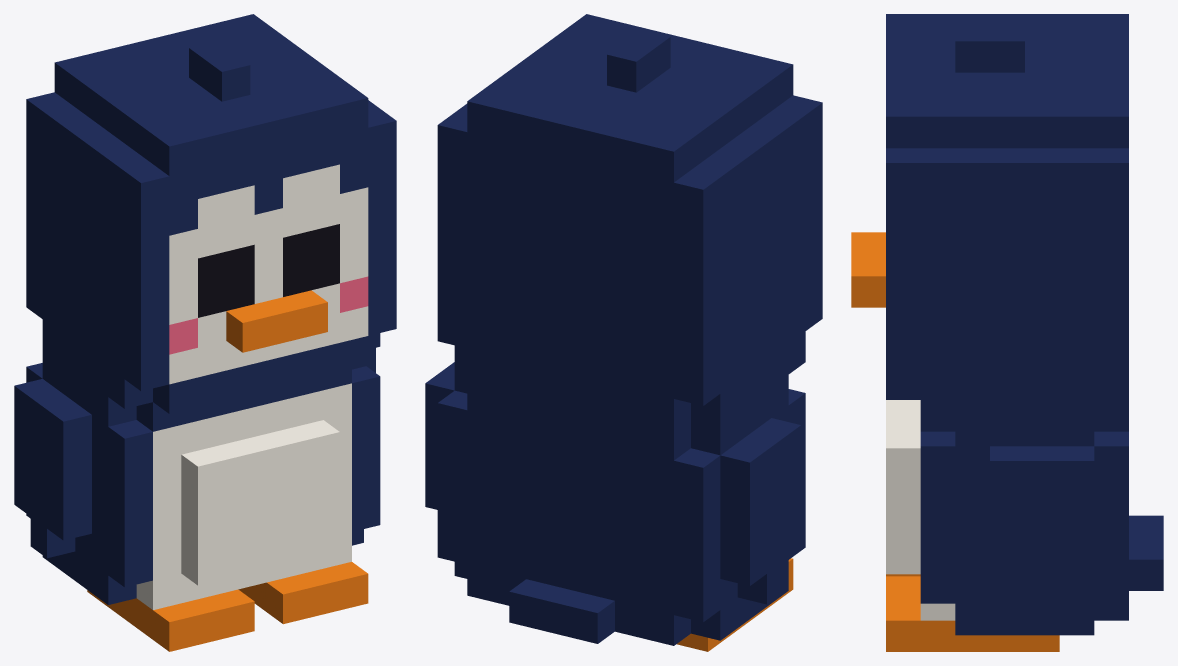
The model's file is Penguin.obj.
3 views of the same model, side by side, from view 1: azimuth 30°, elevation 25°; view 2: azimuth 150°, elevation 25°; view 3: azimuth 270°, elevation 25° (orthographic). The views are drawn at different scales.
Visible parts, largest first — view 1: Penguin; view 2: Penguin; view 3: Penguin.
Part boxes in pixels (left/top/right/bottom): Penguin: left=14, top=14, right=396, bottom=651; Penguin: left=425, top=14, right=822, bottom=651; Penguin: left=851, top=14, right=1163, bottom=651.
Bounding box in the file's own units: 0.605 × 0.99 × 0.495.
